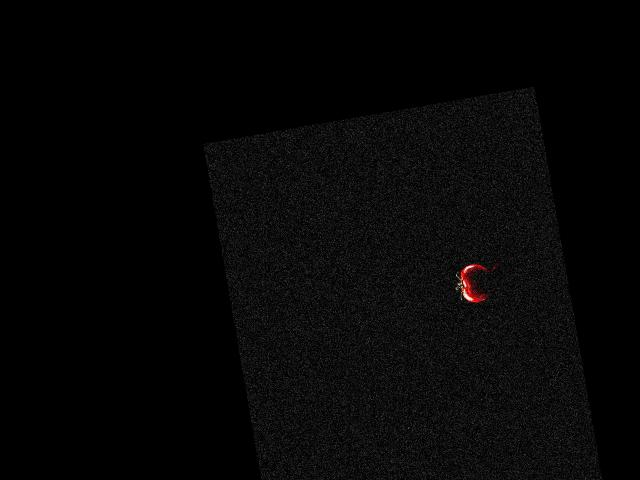tomato: (457, 262, 493, 305)
